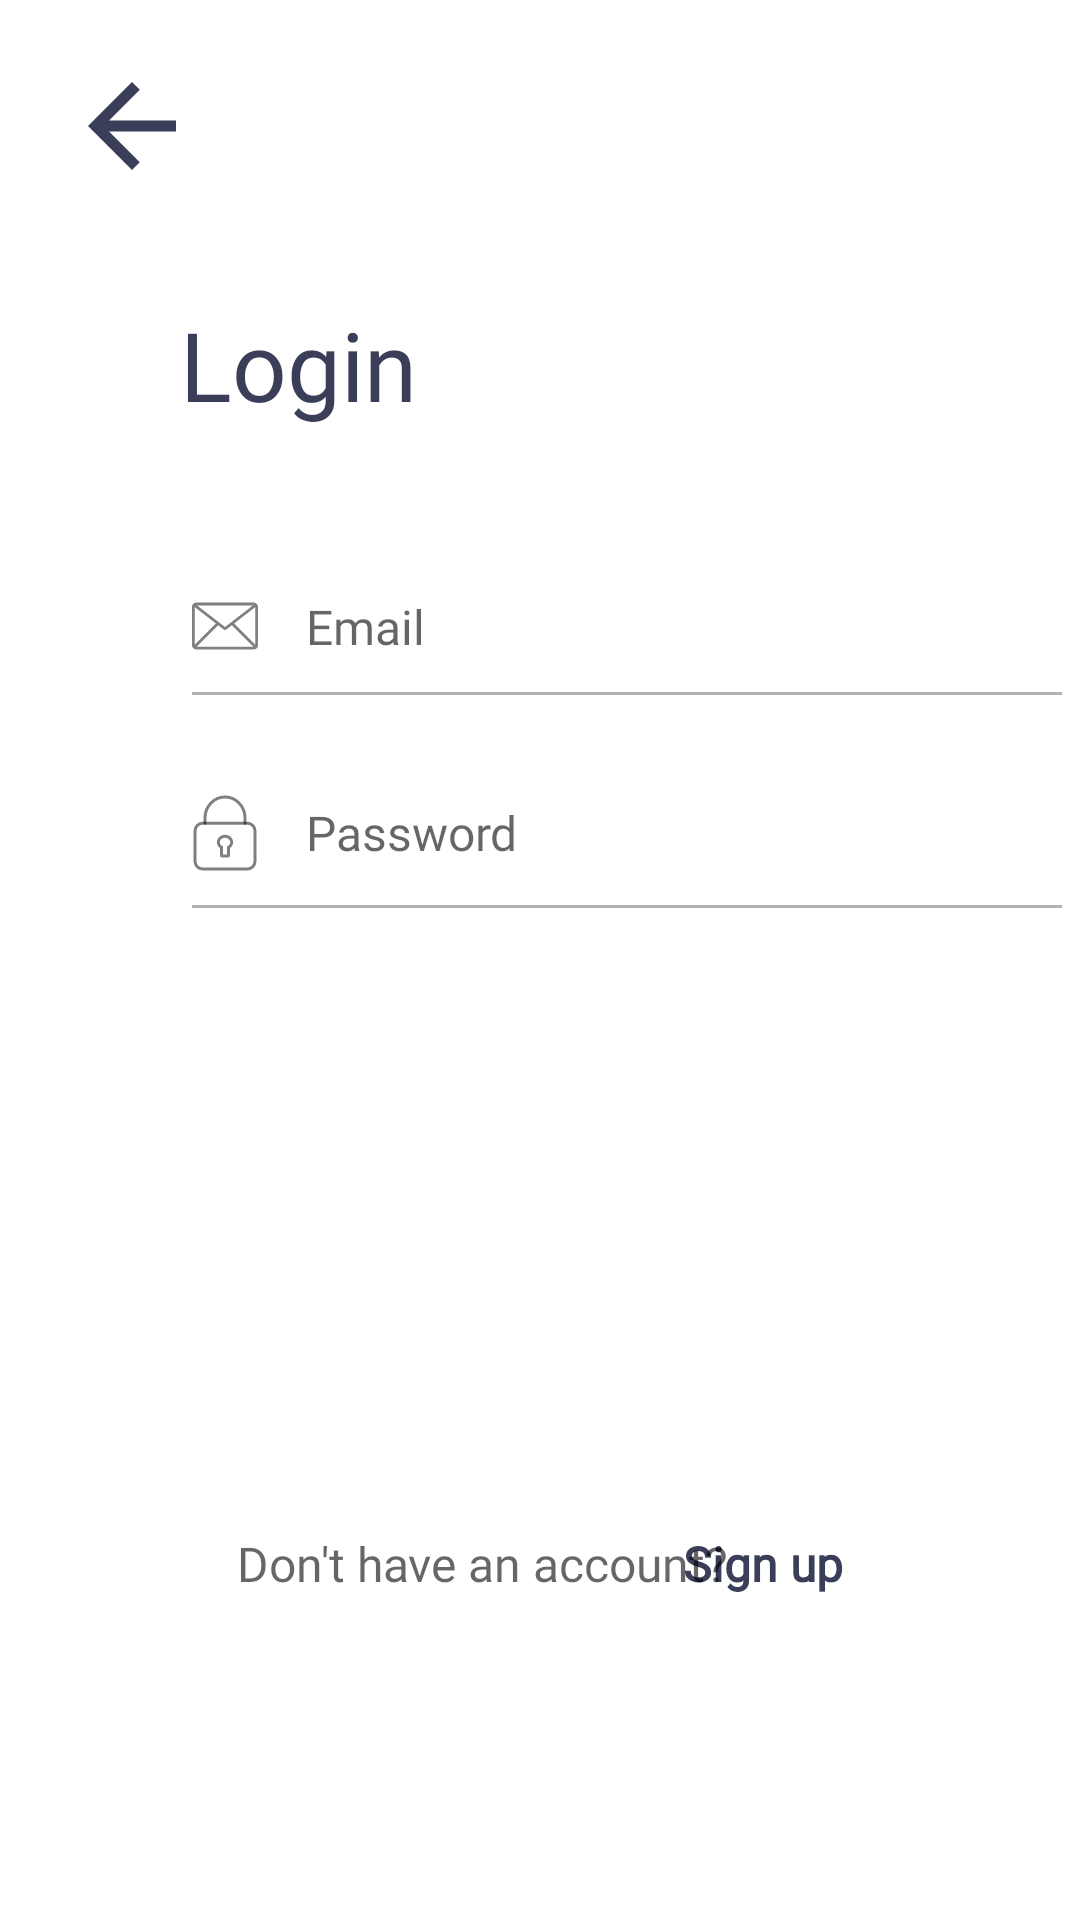

Icons on this 1080px x 1920px Android screen, each with the point to tap as point (x, y):
arrow back: point (132, 126)
